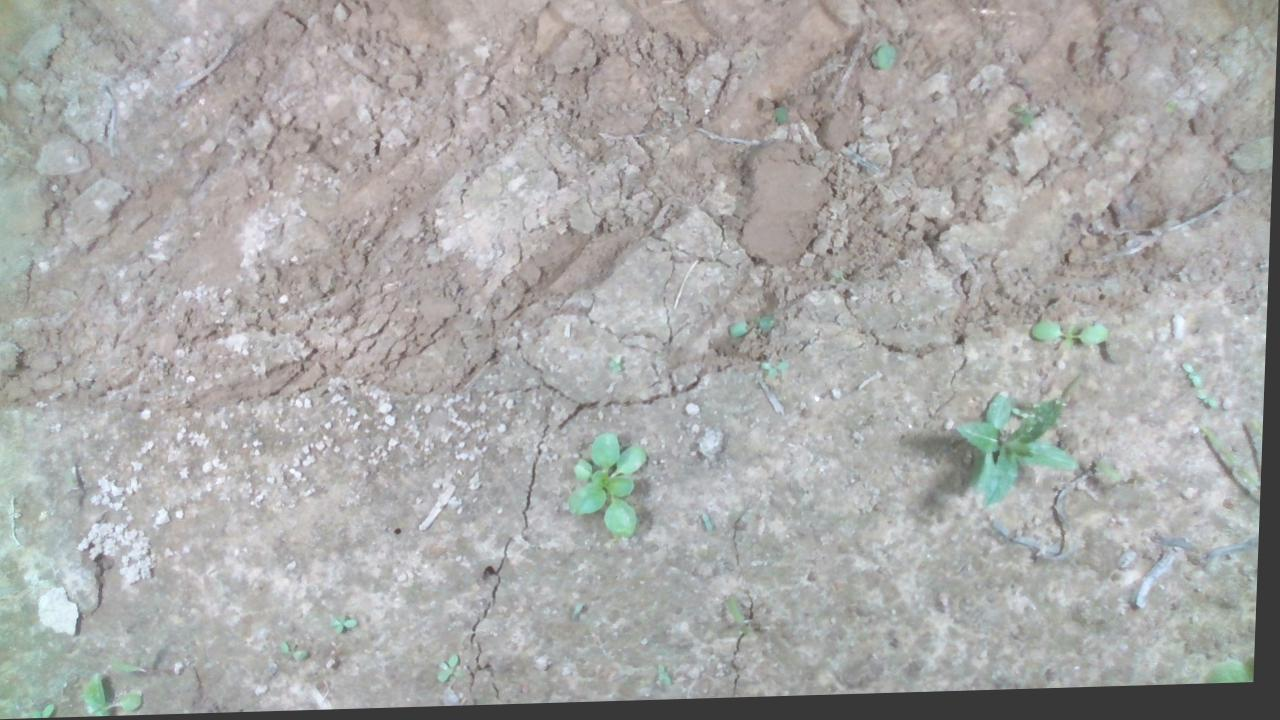weed: (1029, 321, 1113, 358), (438, 655, 472, 685), (331, 611, 365, 637), (280, 638, 313, 663), (1182, 366, 1207, 396), (1198, 394, 1224, 417)
